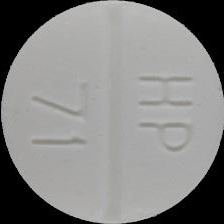66336-623: (0, 0, 224, 224)
